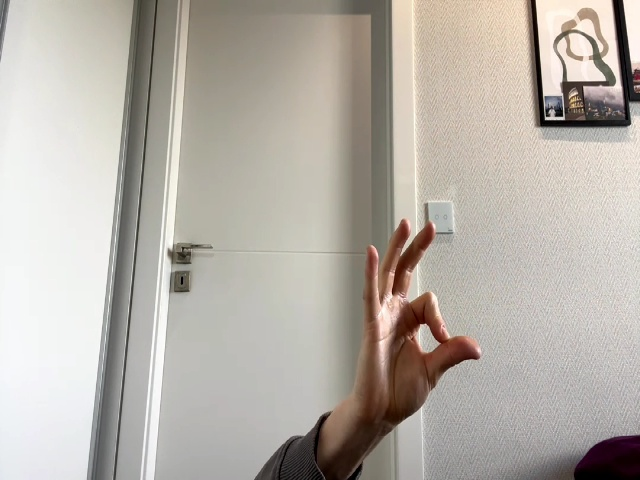S: (357, 219, 481, 411)
